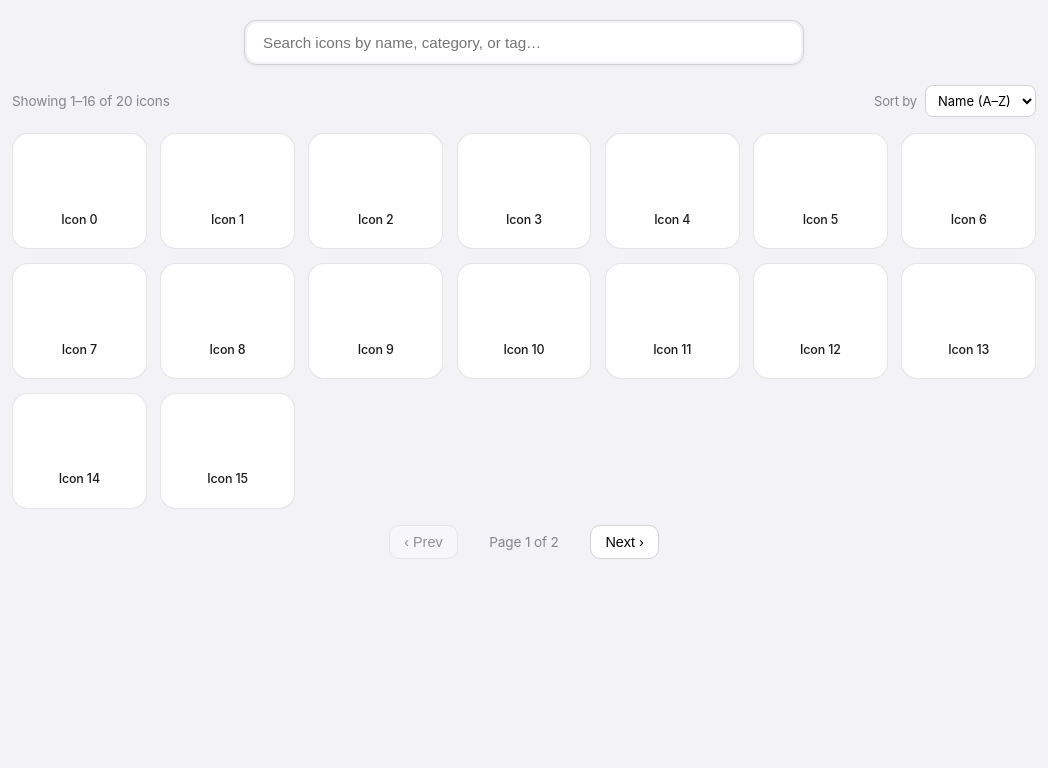
it: IconGrid › paginates: splits results across pages instead of rendering everything at once
Expected: the message reads "Showing 1–16 of 20 icons", [12,93,170,109]
Expected: the text "Icon 0" is shown, [61,212,97,227]
Click the button "Next ›".
click(625, 542)  # box [590,525,659,559]
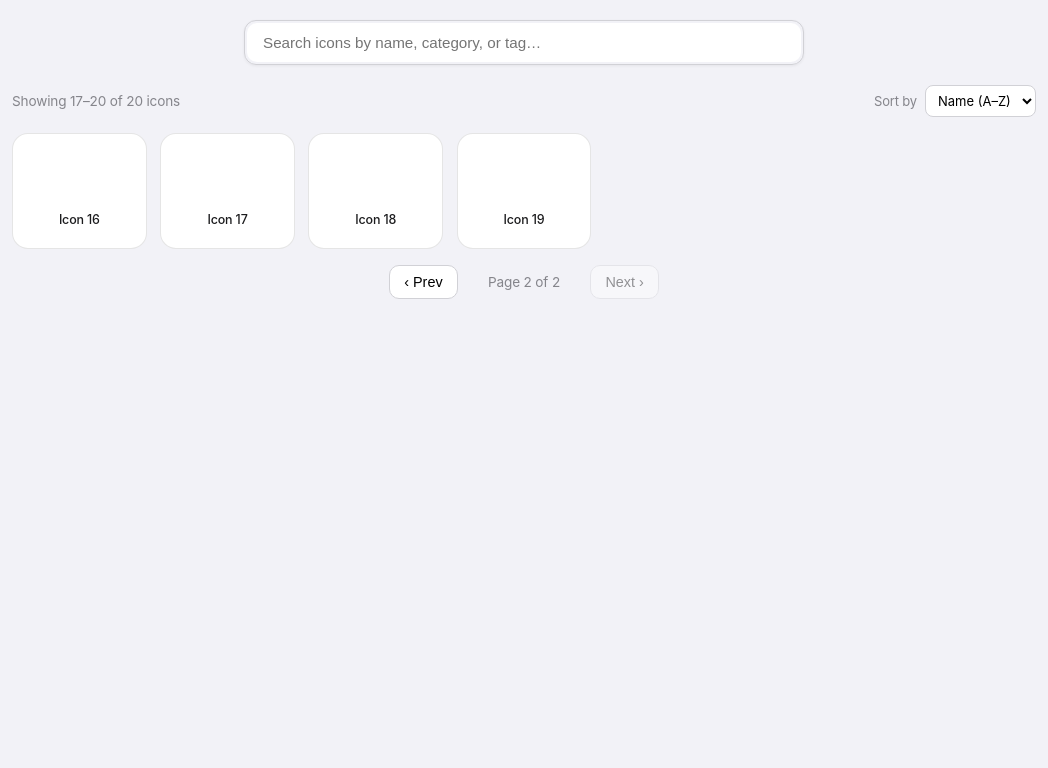
Expected: the message reads "Showing 17–20 of 20 icons", [12,93,180,109]
Expected: the text "Icon 16" is shown, [59,212,100,227]
Expected: the link "Icon 0" is gone
Click the button "‹ Prev".
click(423, 282)  # box [389,265,458,299]
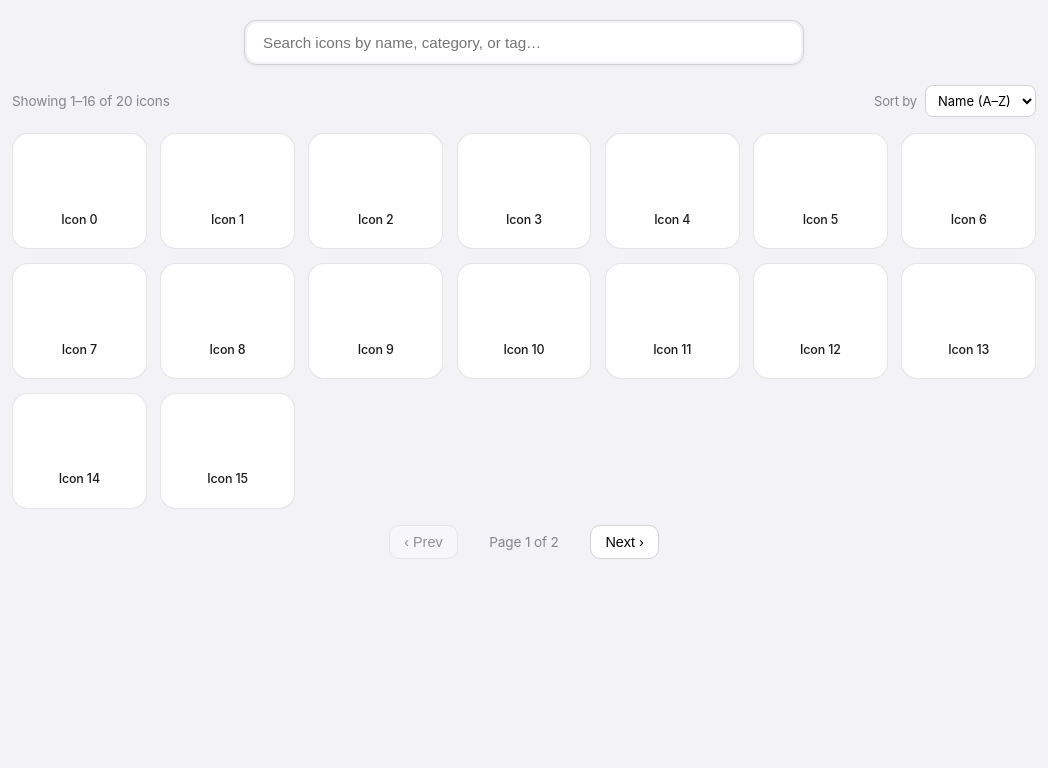
Expected: the message reads "Showing 1–16 of 20 icons", [12,93,170,109]
